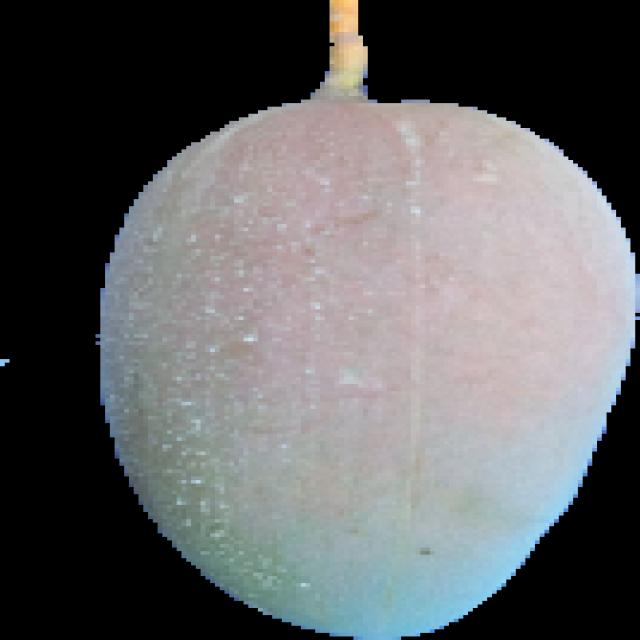Mango-sano: (96, 0, 639, 639)
